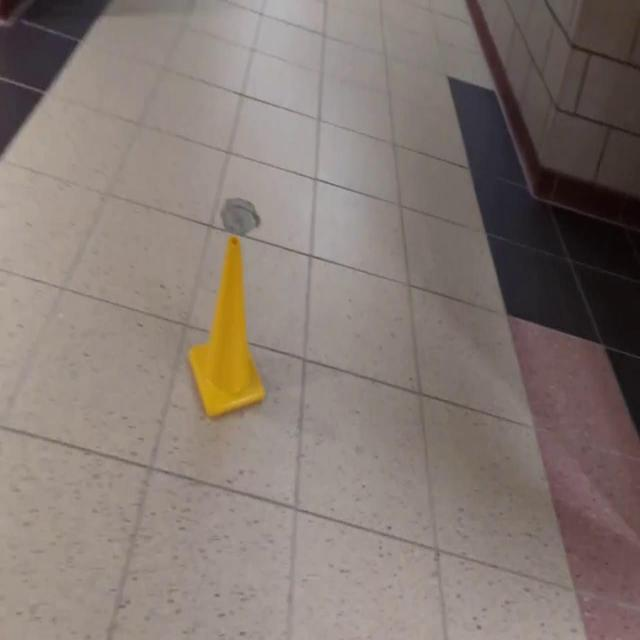frc_cone: (187, 234, 265, 420)
